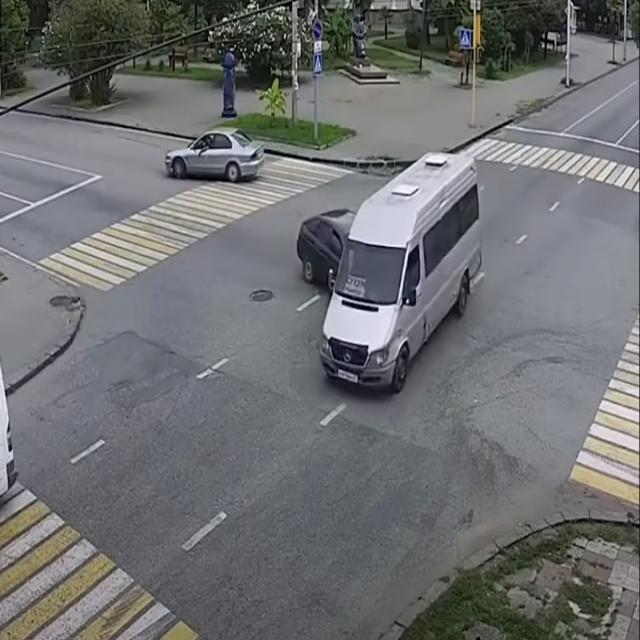accident: (294, 148, 486, 400)
